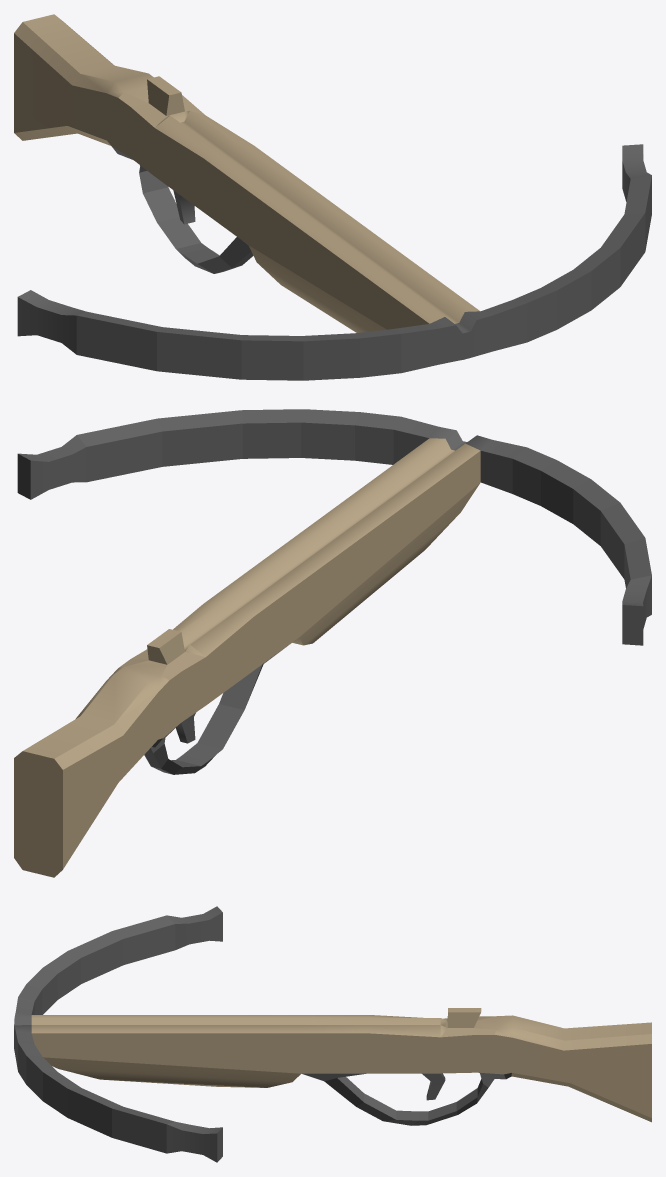
The model's file is Unload_Crossbow.fbx.
The picture shows the model from 3 angles, top to bottom: view 1: azimuth 30°, elevation 25°; view 2: azimuth 150°, elevation 25°; view 3: azimuth 270°, elevation 25°; orthographic projection. The views are drawn at different scales.
Parts seen in each view (by area): view 1: polySurface2; view 2: polySurface2; view 3: polySurface2.
Boxes of the visible parts, x1=… form: polySurface2: x1=14, y1=14, x2=651, y2=380; polySurface2: x1=14, y1=409, x2=651, y2=877; polySurface2: x1=14, y1=906, x2=651, y2=1162.
Size of the model in its own units: 42.45 by 9.92 by 50.36.
